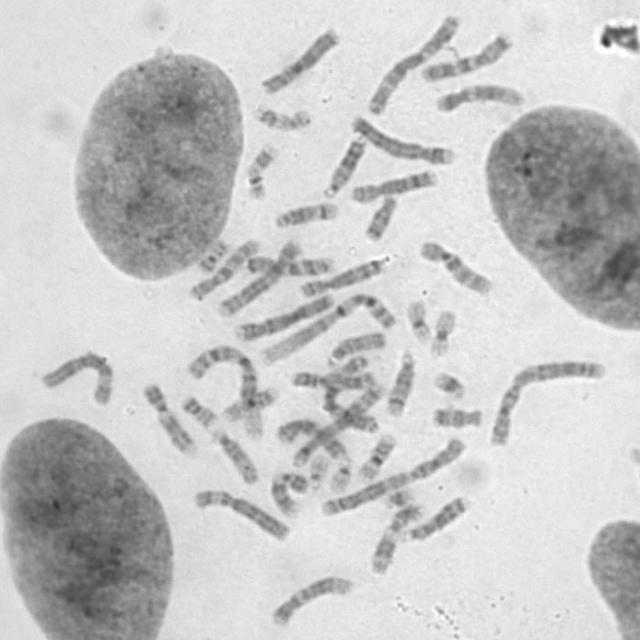A1: (256, 289, 400, 367), (183, 340, 269, 441)
A2: (318, 434, 470, 519), (484, 354, 610, 448)
A3: (364, 10, 465, 116), (320, 353, 381, 435)
B4: (346, 110, 458, 167), (231, 288, 337, 342)
B5: (286, 378, 388, 469), (214, 236, 303, 318)
C10: (184, 234, 263, 302), (414, 235, 496, 298)
C11: (366, 499, 426, 576), (288, 366, 381, 390)
C12: (266, 570, 356, 629), (431, 80, 527, 114)
C6: (189, 484, 294, 543), (36, 347, 115, 408)
C7: (417, 27, 516, 83), (242, 250, 337, 278)
C8: (294, 253, 388, 299), (346, 164, 440, 204)
C9: (139, 379, 199, 457), (266, 468, 309, 519)
D13: (396, 491, 471, 543), (319, 131, 368, 199)
D14: (381, 345, 417, 418), (270, 197, 340, 230)
D15: (207, 424, 261, 486), (325, 327, 389, 364)
E16: (219, 382, 282, 423), (354, 428, 398, 483)
E17: (240, 139, 279, 202), (248, 100, 314, 132)
E18: (359, 189, 400, 242), (427, 402, 486, 431)
F19: (426, 305, 458, 358), (402, 294, 434, 343)
F20: (176, 389, 219, 429), (194, 235, 232, 274)
G21: (428, 366, 469, 402), (379, 481, 417, 510)
G22: (324, 454, 355, 494), (304, 450, 331, 492)
X: (256, 24, 342, 96), (272, 414, 351, 461)
